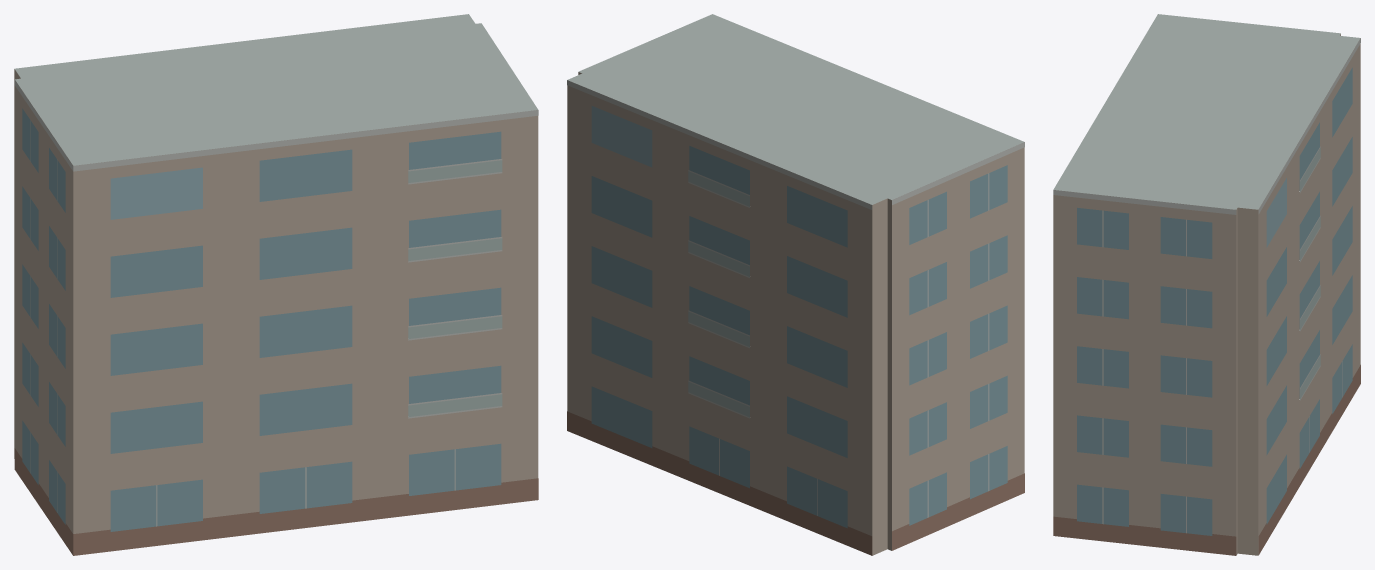
Rendered from survey-upis-32856091.glb.
3 views of the same model, side by side, from view 1: azimuth 30°, elevation 25°; view 2: azimuth 150°, elevation 25°; view 3: azimuth 270°, elevation 25° (orthographic). The views are drawn at different scales.
Visible parts, largest first — view 1: survey-upis-32856091.tmp; view 2: survey-upis-32856091.tmp; view 3: survey-upis-32856091.tmp.
Boxes of the visible parts, left/top/right/bottom form: survey-upis-32856091.tmp: left=14, top=14, right=538, bottom=555; survey-upis-32856091.tmp: left=567, top=14, right=1024, bottom=555; survey-upis-32856091.tmp: left=1053, top=14, right=1360, bottom=555.
Bounding box in the file's own units: 19.91 × 16.4 × 13.21.
